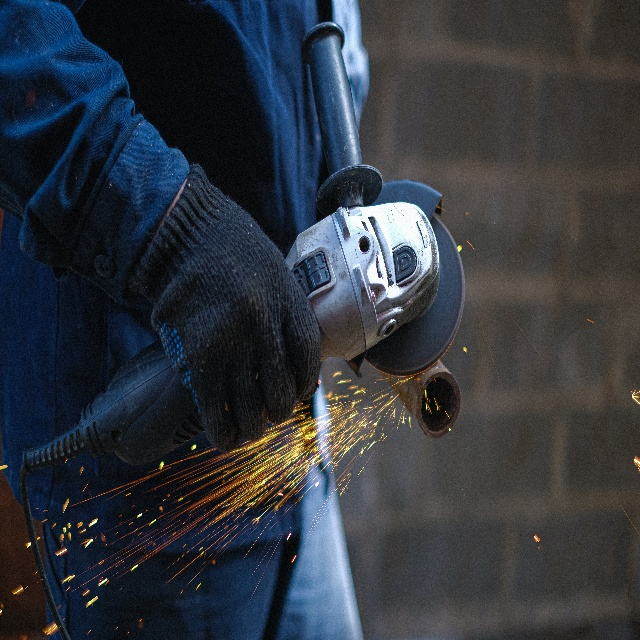Guantes: (161, 209, 319, 460)
